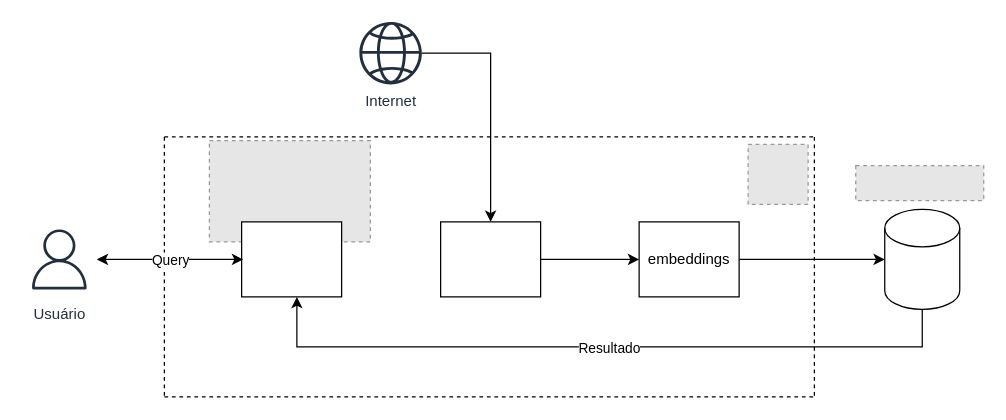
Some shapes in this 1006 by 420 pixel diagram are drawn without their labels. Grey dashed boxes stand in for pictures. The shapes that lost their labels are listed below. From the top down, each one's centre as x and y in pixels, then its label:
At point 291,259: "api".
At point 490,259: "extractor".
